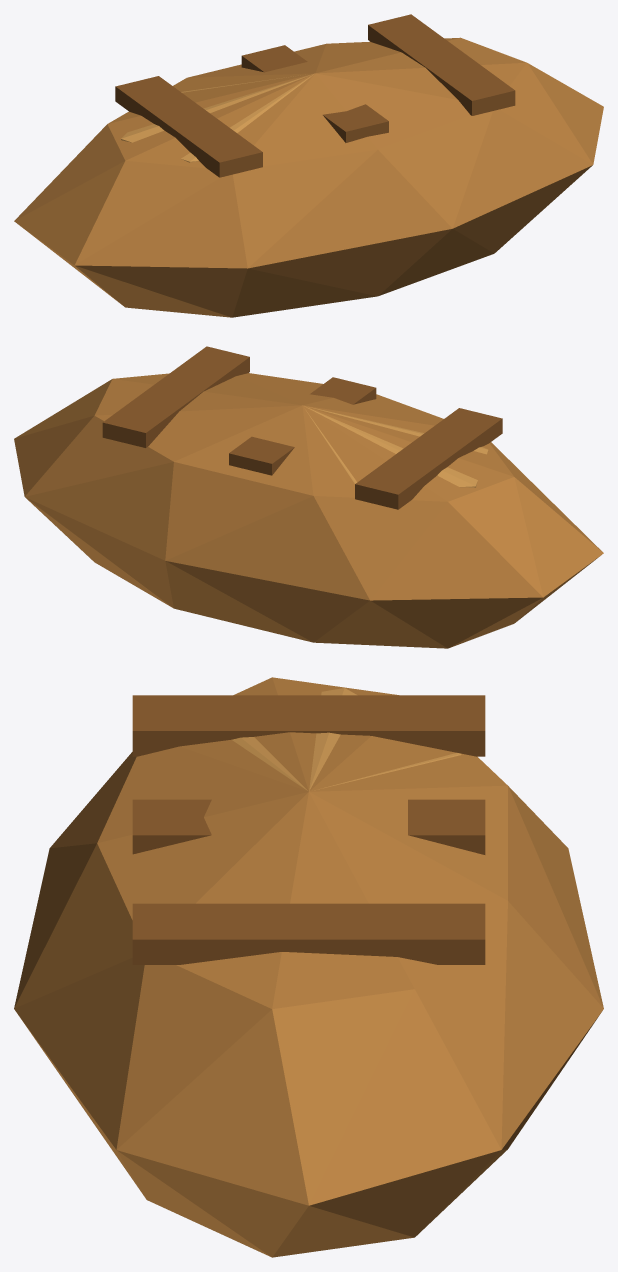
The model's file is drop_bread.glb.
3 views of the same model, one above another, from view 1: azimuth 30°, elevation 25°; view 2: azimuth 150°, elevation 25°; view 3: azimuth 270°, elevation 25° (orthographic). The views are drawn at different scales.
Parts seen in each view (by area): view 1: drop_bread; view 2: drop_bread; view 3: drop_bread.
Boxes of the visible parts, x1,y1,x2,y2 form: drop_bread: [14, 14, 603, 317]; drop_bread: [14, 346, 603, 648]; drop_bread: [14, 677, 603, 1257].
Size of the model in its own units: 0.3104 by 0.11 by 0.1674.
